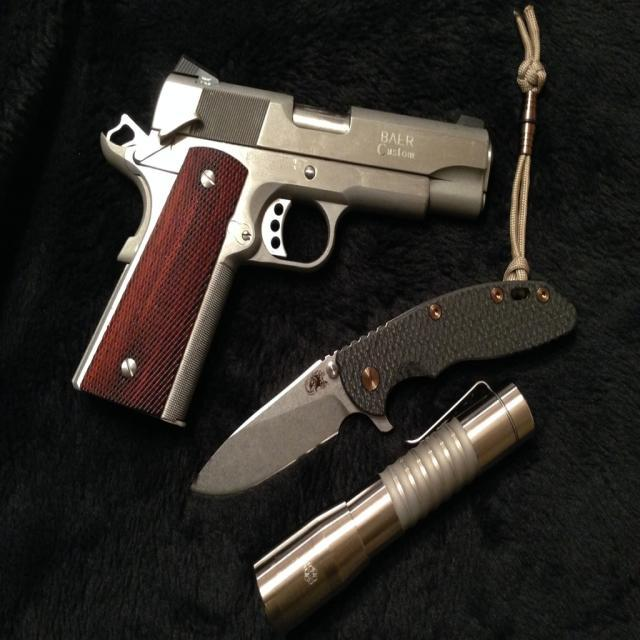Gun: (72, 58, 491, 424)
Knife: (192, 280, 574, 494)
